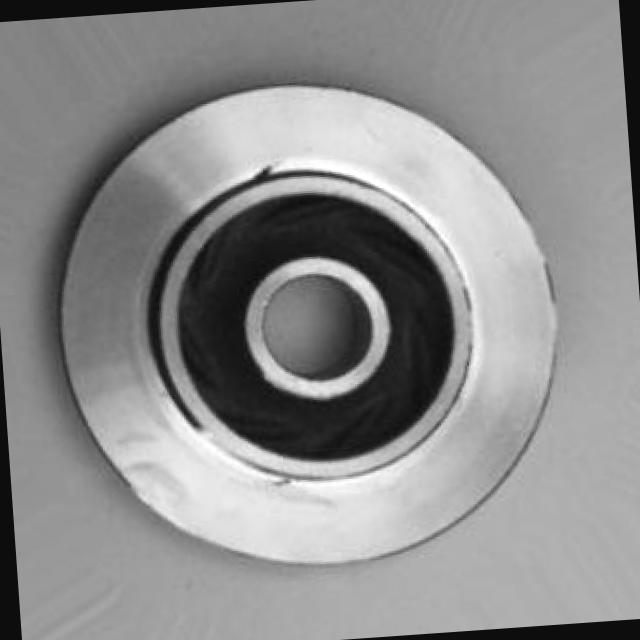Defect: (246, 156, 283, 190)
